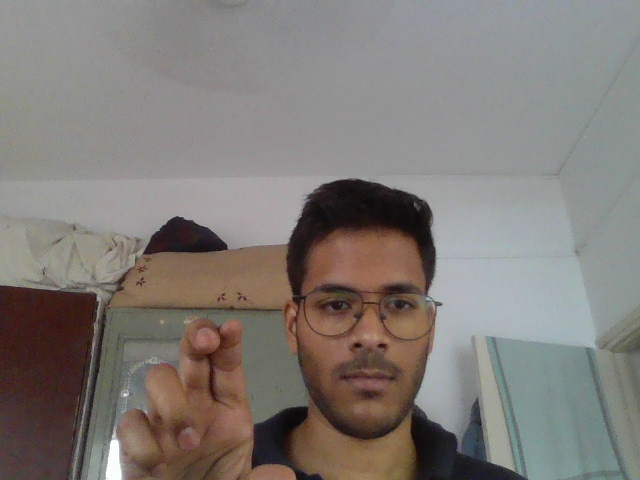no: (80, 306, 318, 480)
